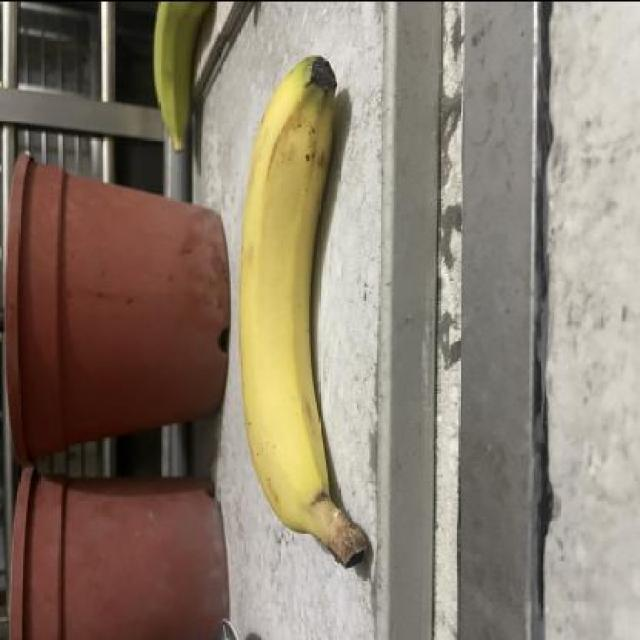Banana: (235, 51, 373, 576)
